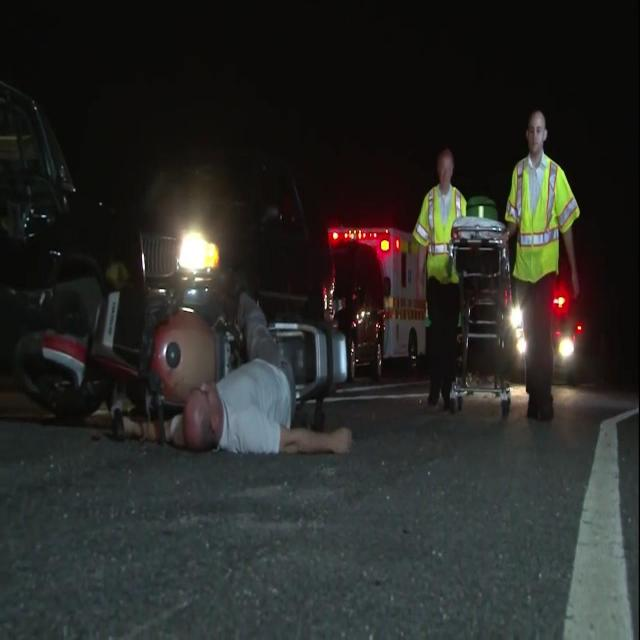Reflective-Jacket: (498, 154, 589, 332), (408, 182, 472, 300)
Safety-Helmet: (520, 99, 558, 154), (430, 137, 460, 187)
